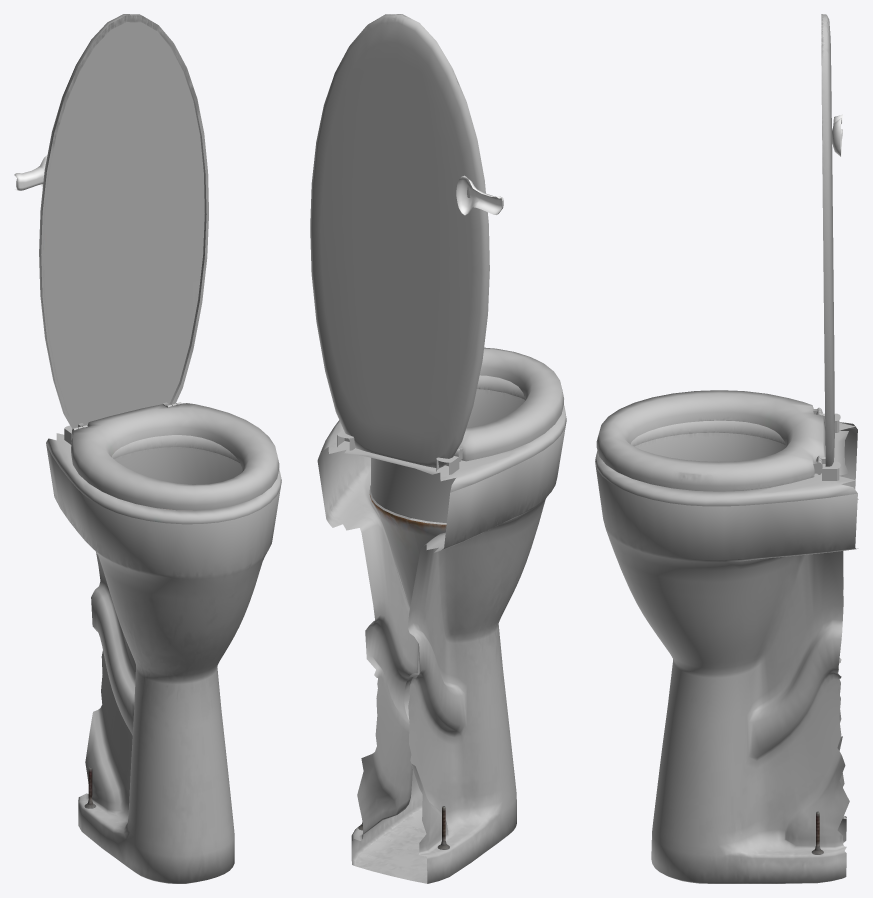
The model's file is toilet.glb.
The picture shows the model from 3 angles, left to right: view 1: azimuth 30°, elevation 25°; view 2: azimuth 150°, elevation 25°; view 3: azimuth 270°, elevation 25°; orthographic projection. The views are drawn at different scales.
Visible parts, largest first — view 1: Toilet.002, ToiletSeatCover.002, ToiletSeat.002, ToiletFlushHandle.002; view 2: Toilet.002, ToiletSeatCover.002, ToiletSeat.002, ToiletFlushHandle.002; view 3: Toilet.002, ToiletSeat.002, ToiletSeatCover.002.
Part boxes in pixels (<box>): Toilet.002: <box>46,433,281,883</box>; ToiletSeatCover.002: <box>39,14,208,428</box>; ToiletSeat.002: <box>71,402,279,510</box>; ToiletFlushHandle.002: <box>14,155,47,190</box>; Toilet.002: <box>317,375,566,883</box>; ToiletSeatCover.002: <box>310,14,489,467</box>; ToiletSeat.002: <box>454,347,563,461</box>; ToiletFlushHandle.002: <box>456,175,503,215</box>; Toilet.002: <box>595,420,858,883</box>; ToiletSeat.002: <box>596,390,825,491</box>; ToiletSeatCover.002: <box>816,14,834,466</box>.
Size of the model in its own units: 9.22 by 37.39 by 10.6.
Materials: 1 (1 with a texture image).
